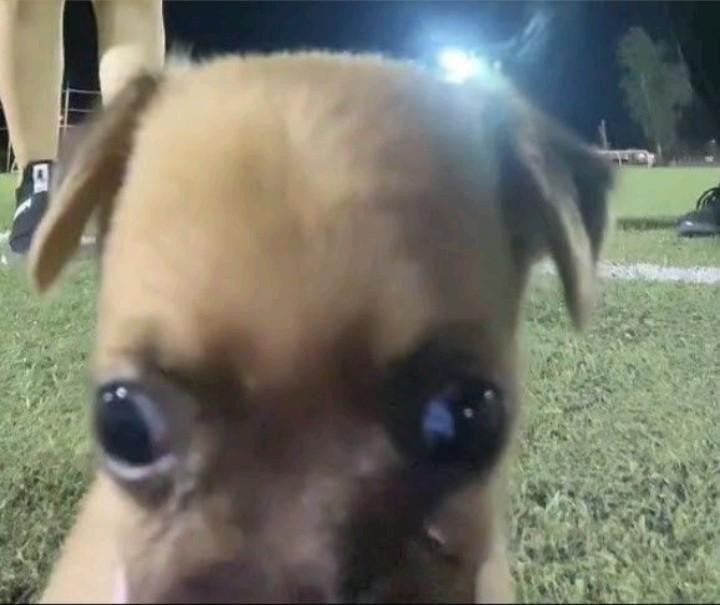non-dog: (0, 0, 163, 256)
puppy-dog: (27, 52, 619, 605)
